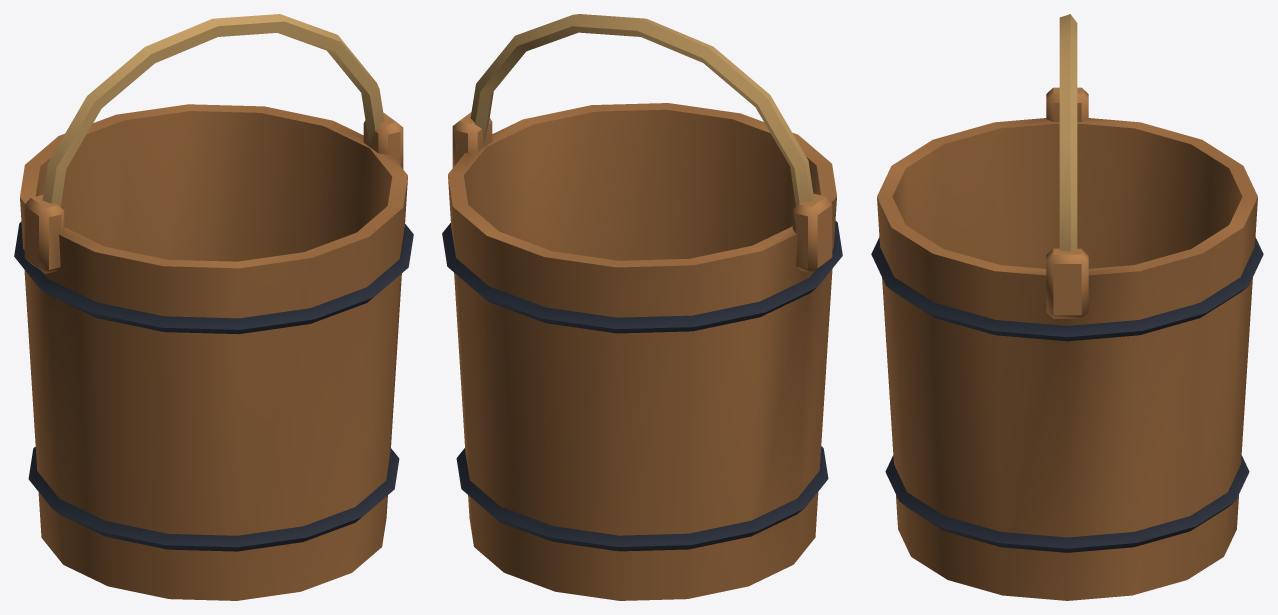
File: bucket.glb
3 views of the same model, side by side, from view 1: azimuth 30°, elevation 25°; view 2: azimuth 150°, elevation 25°; view 3: azimuth 270°, elevation 25° (orthographic). The views are drawn at different scales.
Visible parts, largest first — view 1: Bucket Wood, Bucket Dark iron, Bucket Rope; view 2: Bucket Wood, Bucket Dark iron, Bucket Rope; view 3: Bucket Wood, Bucket Dark iron, Bucket Rope.
Boxes of the visible parts, x1,y1,x2,y2 form: Bucket Wood: [20, 104, 407, 600]; Bucket Dark iron: [14, 222, 413, 551]; Bucket Rope: [42, 14, 384, 206]; Bucket Wood: [448, 103, 836, 600]; Bucket Dark iron: [442, 221, 842, 551]; Bucket Rope: [470, 14, 813, 205]; Bucket Wood: [877, 87, 1257, 600]; Bucket Dark iron: [871, 237, 1263, 552]; Bucket Rope: [1059, 14, 1077, 251].
Bounding box in the file's own units: 0.29 × 0.3867 × 0.278.
